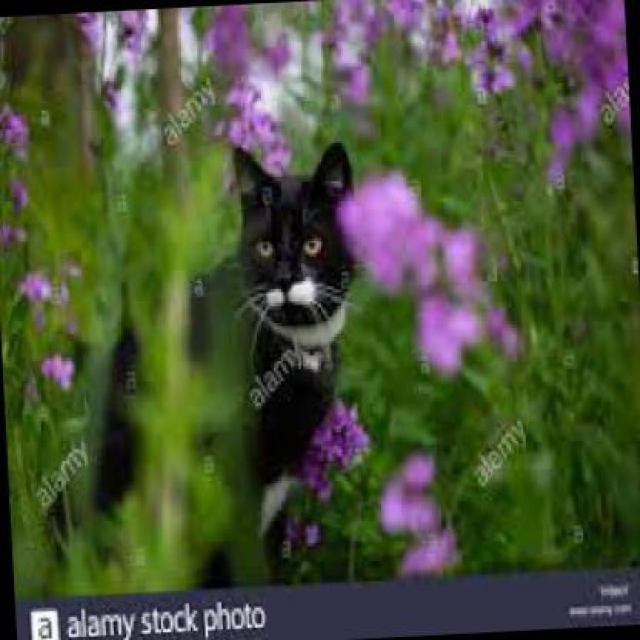animals: (208, 117, 378, 495)
